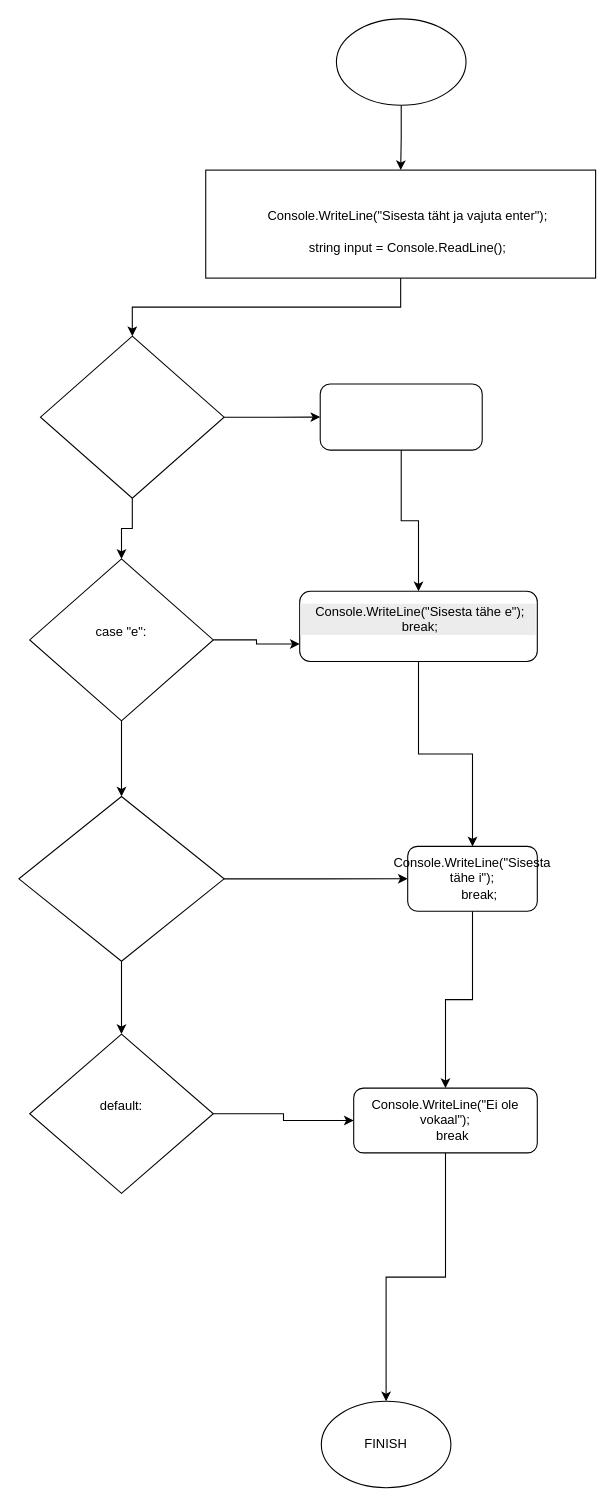
Image size: 615x1507. Some labels were removed from this diagram. The centre of each missing label's shape, as x and y in pixels:
case "a":: point 131,416
case "i":: point 121,878
Console.WriteLine("Sisesta tähe a"); break;: point 400,416
START: point 400,61
